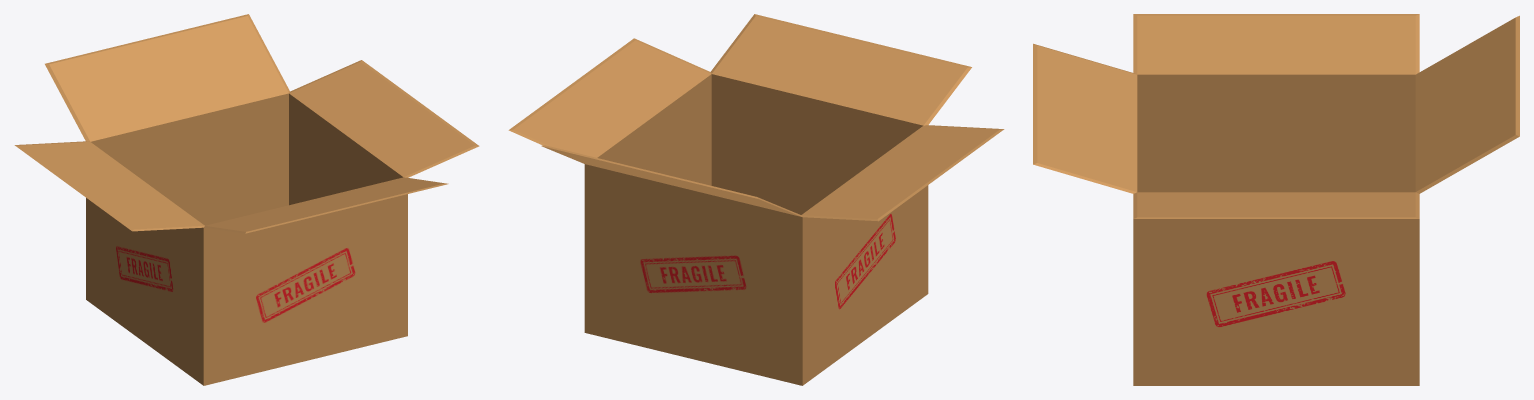
Rendered from CajaCarton.fbx.
The picture shows the model from 3 angles, left to right: view 1: azimuth 30°, elevation 25°; view 2: azimuth 150°, elevation 25°; view 3: azimuth 270°, elevation 25°; orthographic projection. The views are drawn at different scales.
Parts seen in each view (by area): view 1: Cube; view 2: Cube; view 3: Cube.
Part boxes in pixels (x1,y1,x2,y2): Cube: (14,14,479,385); Cube: (508,14,1004,385); Cube: (1033,14,1519,385).
Size of the model in its own units: 340 by 192 by 340.
Materials: 1 (1 with a texture image).
